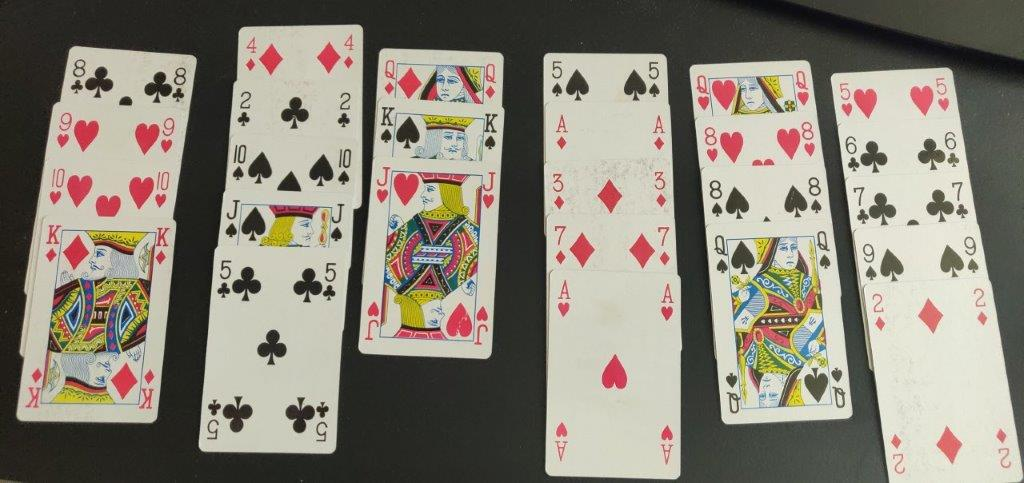10H: (45, 162, 67, 208), (153, 168, 173, 211)
10S: (228, 141, 251, 187), (334, 144, 355, 188)
2C: (333, 90, 355, 131), (235, 90, 257, 129)
2D: (969, 284, 992, 328), (870, 292, 892, 332)
3D: (649, 169, 672, 212), (549, 169, 568, 214)
4D: (341, 31, 359, 74), (242, 33, 259, 78)
5C: (214, 254, 235, 303), (320, 260, 339, 304)
5H: (931, 74, 954, 118), (836, 80, 856, 123)
5S: (646, 57, 664, 103), (548, 57, 564, 101)
6C: (941, 126, 962, 172), (843, 134, 863, 175)
7C: (949, 178, 971, 222), (850, 183, 871, 229)
7D: (549, 221, 569, 267), (655, 221, 674, 265)
8C: (169, 63, 190, 104), (67, 54, 87, 97)
8H: (700, 121, 722, 164), (798, 118, 820, 160)
8S: (705, 176, 729, 221), (802, 174, 826, 219)
9H: (53, 108, 75, 150), (159, 113, 178, 157)
9S: (962, 233, 980, 280), (861, 241, 879, 284)
AD: (549, 111, 573, 154), (651, 113, 669, 154)
AH: (658, 279, 678, 325), (554, 276, 574, 319)
JH: (374, 161, 392, 211), (478, 170, 499, 209)
JS: (327, 197, 346, 248), (222, 194, 243, 239)
KD: (40, 222, 65, 265), (147, 224, 171, 264)
KS: (482, 109, 502, 156), (377, 103, 396, 147)
QD: (381, 56, 400, 99), (482, 61, 498, 101)
QH: (790, 66, 812, 113), (691, 71, 712, 112)
QS: (811, 228, 835, 276), (708, 233, 733, 277)
